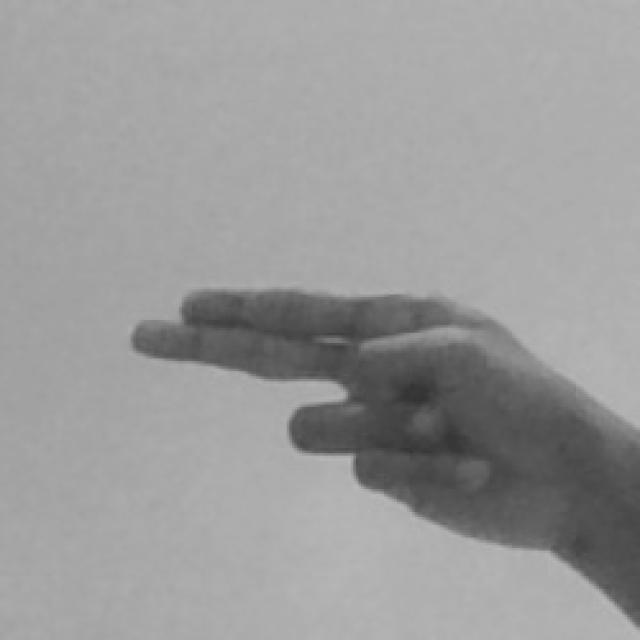H: (128, 279, 640, 630), (127, 284, 640, 632)
